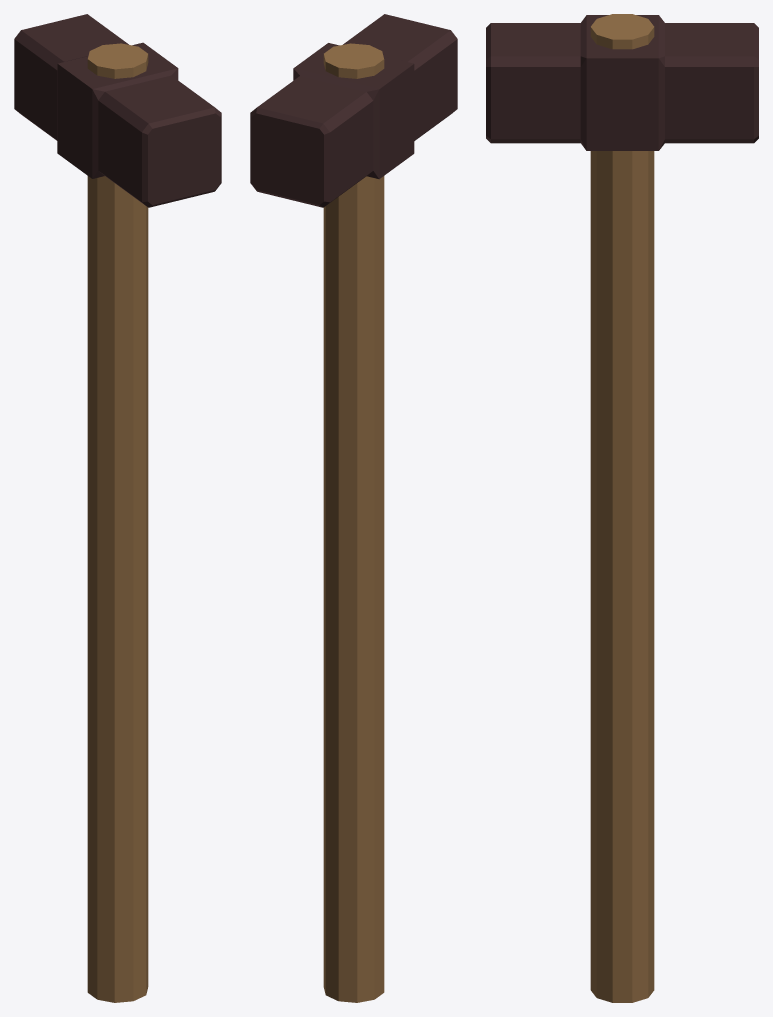
File: Sledgehammer.fbx
3 views of the same model, side by side, from view 1: azimuth 30°, elevation 25°; view 2: azimuth 150°, elevation 25°; view 3: azimuth 270°, elevation 25° (orthographic). The views are drawn at different scales.
Visible parts, largest first — view 1: Cylinder.001; view 2: Cylinder.001; view 3: Cylinder.001.
Part boxes in pixels (x1,y1,x2,y2): Cylinder.001: (14, 14, 221, 1002); Cylinder.001: (250, 14, 457, 1002); Cylinder.001: (486, 14, 758, 1002).
Size of the model in its own units: 9.63 by 100 by 25.67.
